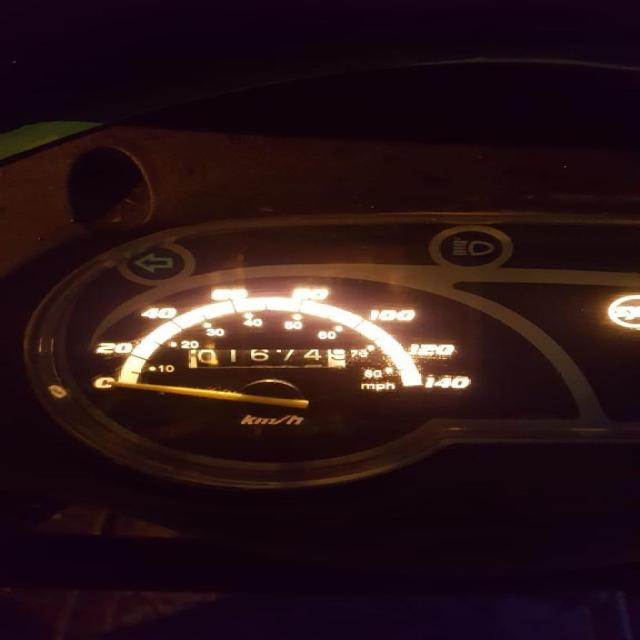odometer: (185, 347, 349, 368)
